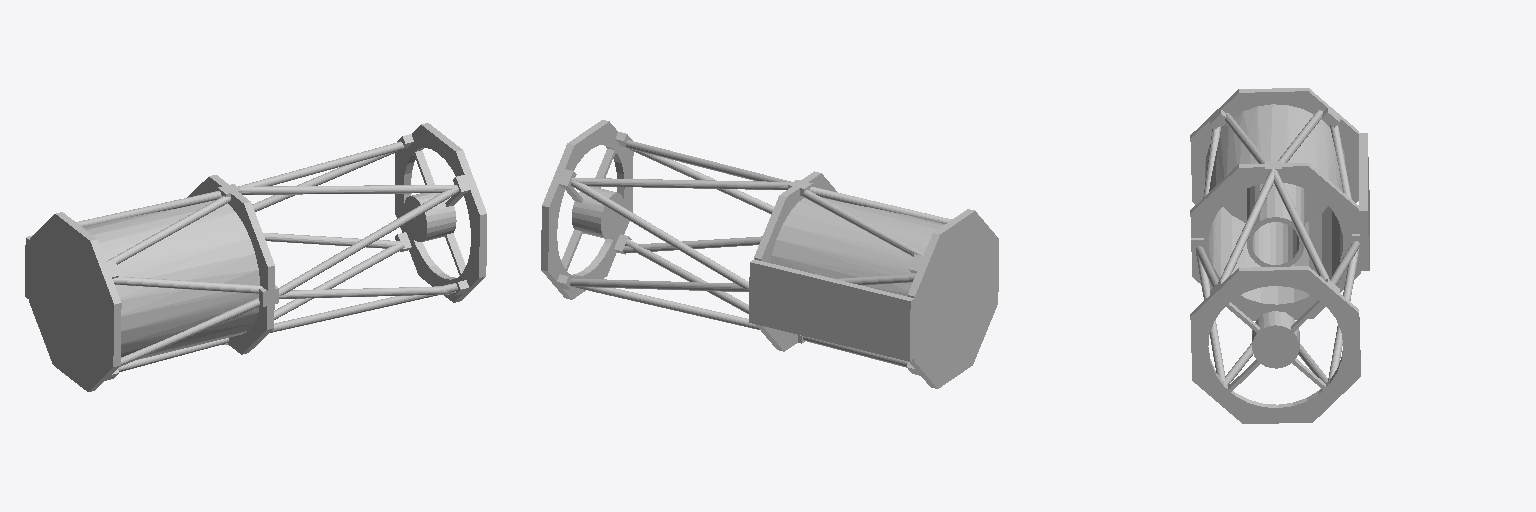
The model's file is RitcheyChretienTrussAltAz.obj.
The picture shows the model from 3 angles: view 1: azimuth 30°, elevation 25°; view 2: azimuth 150°, elevation 25°; view 3: azimuth 270°, elevation 25°; orthographic projection.
Parts seen in each view (by area): view 1: RitcheyChretienTruss; view 2: RitcheyChretienTruss; view 3: RitcheyChretienTruss.
Boxes of the visible parts, x1=… form: RitcheyChretienTruss: x1=25, y1=123, x2=486, y2=391; RitcheyChretienTruss: x1=541, y1=120, x2=998, y2=388; RitcheyChretienTruss: x1=1190, y1=88, x2=1369, y2=423.
Size of the model in its own units: 765 by 303 by 318.